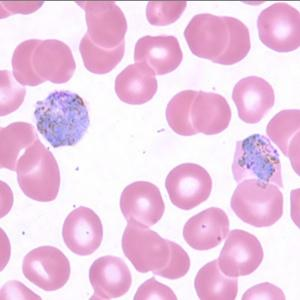Infected: (230, 134, 283, 199), (33, 90, 90, 150)
Uninfected: (119, 214, 171, 273), (231, 177, 283, 226), (0, 119, 42, 179), (17, 145, 61, 202), (166, 162, 213, 211), (21, 245, 71, 291), (257, 1, 300, 53), (232, 74, 277, 123), (133, 34, 184, 77), (186, 13, 232, 60), (119, 180, 165, 227), (9, 37, 53, 86), (86, 2, 130, 51), (32, 39, 77, 86), (220, 230, 265, 277), (182, 206, 230, 250), (62, 205, 103, 256), (206, 18, 251, 64), (88, 254, 133, 299), (148, 233, 191, 280), (114, 60, 158, 104), (165, 89, 206, 136), (191, 90, 232, 136), (79, 35, 125, 74), (194, 260, 238, 300), (144, 0, 188, 28)
